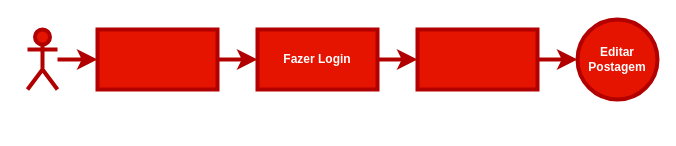
The diagram is 676 pixels wide and 146 high, and some of its shapes have lost their labels. Here are the shapes that lost their labels. From the top down, the box of each, then its label:
(95, 27, 219, 91): Acessar Blog
(415, 27, 539, 91): Acessar Postagem
